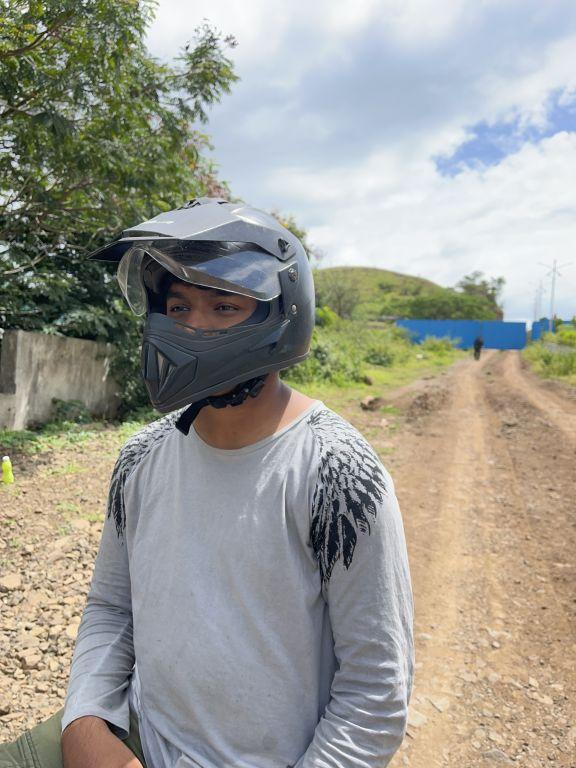helmet: (79, 182, 329, 427)
